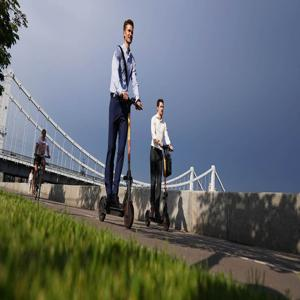human on a scooter: (97, 19, 144, 230), (145, 97, 174, 232)
